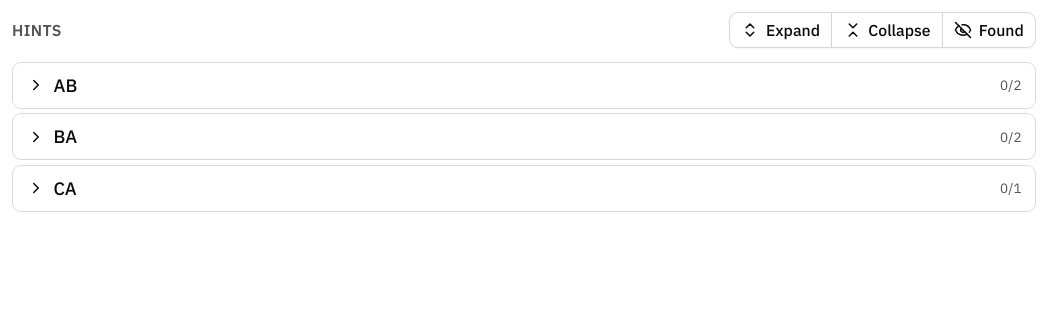
Test: HintsList › collapsible behavior › expands section when prefix is clicked
// Click on AB prefix
Click the button "AB 0/2" at x=36, y=85, box [13,62,1035,108]
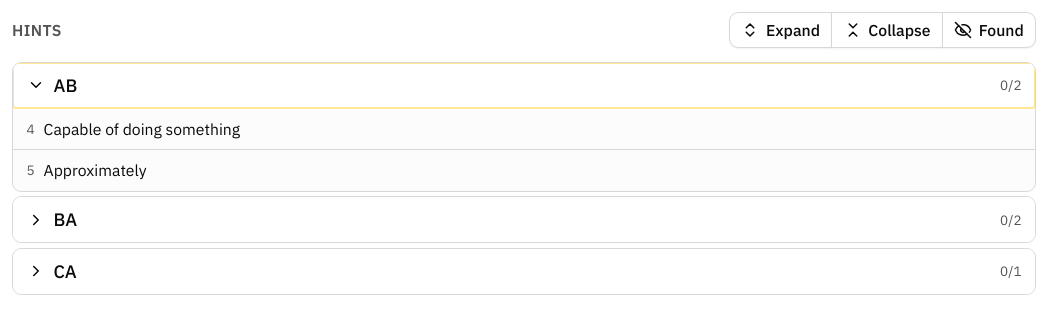
Now the text "Capable of doing something" is shown, box [44,118,240,140]
Now the text "Approximately" is shown, box [44,159,146,182]
